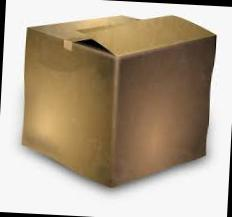cardboard: (8, 0, 221, 187)
